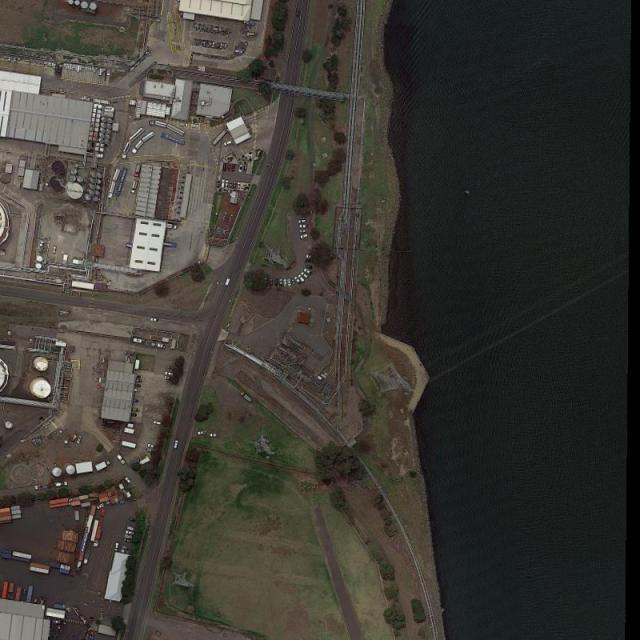vehicle: (109, 169, 121, 198), (124, 530, 136, 536), (301, 271, 309, 280), (124, 525, 135, 531), (173, 439, 179, 450), (298, 274, 306, 282), (294, 276, 302, 284), (287, 278, 293, 288), (223, 140, 233, 146), (210, 433, 221, 438), (163, 371, 174, 376), (123, 538, 132, 544), (304, 268, 313, 274), (291, 279, 297, 288), (120, 549, 130, 554), (124, 534, 134, 539), (147, 444, 157, 449), (198, 430, 208, 435), (131, 408, 141, 413), (238, 164, 243, 174), (306, 264, 314, 270), (279, 278, 283, 290), (283, 279, 288, 288), (298, 219, 307, 224), (221, 178, 225, 189), (114, 542, 118, 552), (154, 421, 162, 426), (264, 276, 268, 286), (150, 318, 160, 322), (223, 163, 227, 173), (226, 276, 230, 286), (125, 477, 131, 483), (301, 234, 308, 239), (306, 254, 314, 258), (274, 278, 278, 286), (270, 278, 274, 286), (164, 377, 172, 381), (232, 163, 235, 173), (300, 230, 307, 234), (228, 163, 231, 172), (226, 179, 229, 188), (299, 225, 307, 228), (237, 182, 240, 190), (134, 390, 141, 393), (233, 182, 236, 189), (230, 181, 232, 189)
